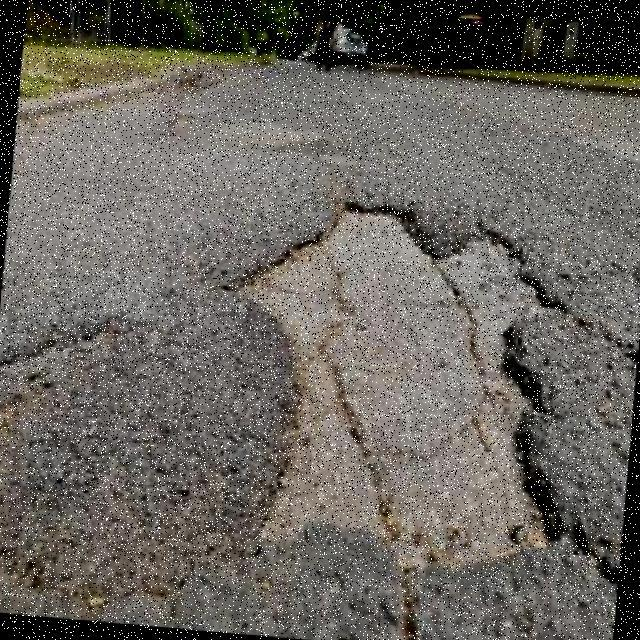Pothole: (226, 199, 619, 585)
